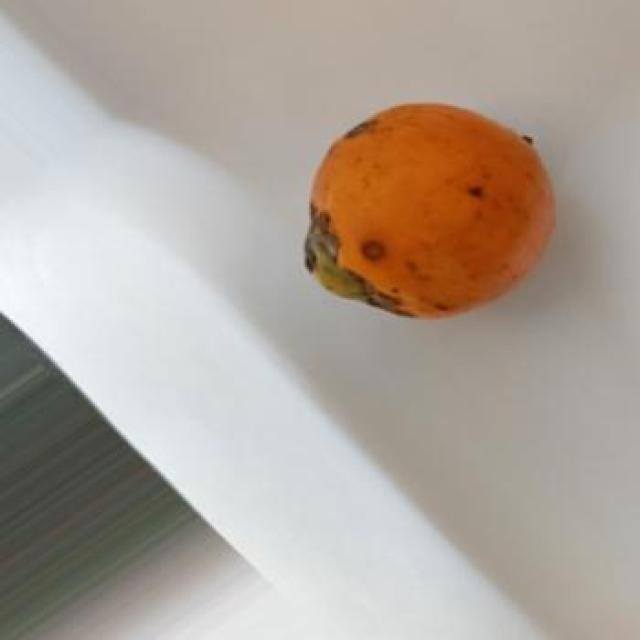good: (304, 102, 556, 322)
